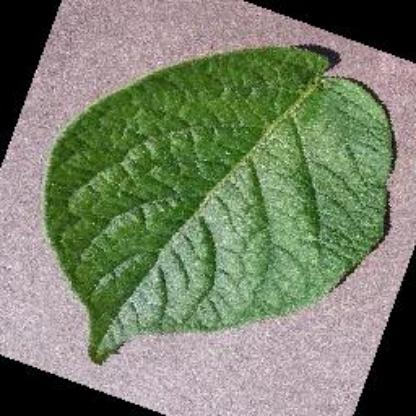Healthy-plant: (25, 30, 397, 408)
